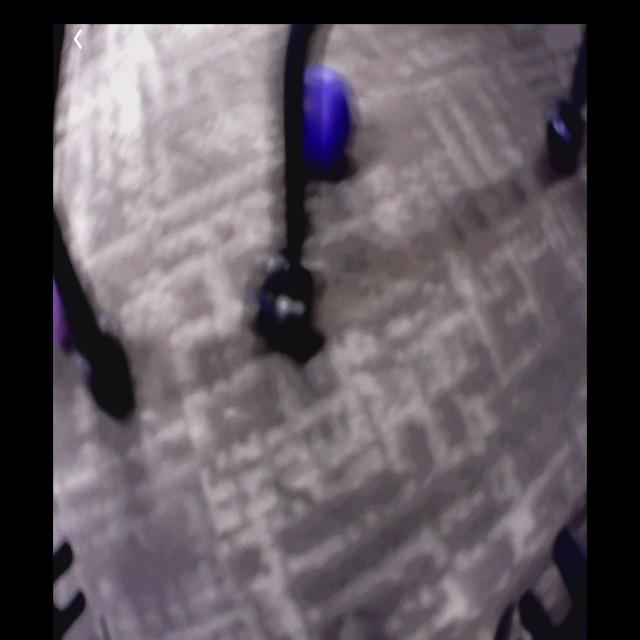ball: (307, 69, 354, 173), (54, 275, 80, 352)
